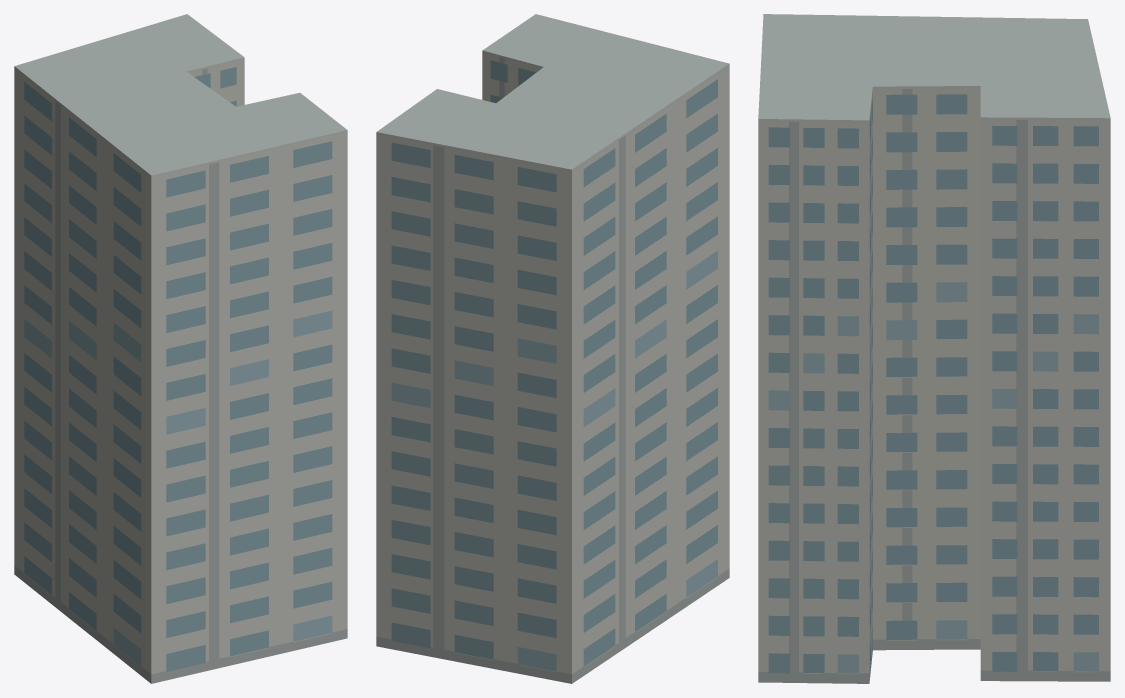
File: residential-03005492-86ac-4448-9a1a-499b64b1af61.glb
3 renders of one model, left to right at view 1: azimuth 30°, elevation 25°; view 2: azimuth 150°, elevation 25°; view 3: azimuth 270°, elevation 25°, orthographic. The views are drawn at different scales.
Parts seen in each view (by area): view 1: residential-03005492-86ac-4448-9a1a-499b64b1af61.tmp; view 2: residential-03005492-86ac-4448-9a1a-499b64b1af61.tmp; view 3: residential-03005492-86ac-4448-9a1a-499b64b1af61.tmp.
Part boxes in pixels (x1=…): residential-03005492-86ac-4448-9a1a-499b64b1af61.tmp: x1=14, y1=14, x2=347, y2=683; residential-03005492-86ac-4448-9a1a-499b64b1af61.tmp: x1=376, y1=14, x2=729, y2=683; residential-03005492-86ac-4448-9a1a-499b64b1af61.tmp: x1=758, y1=14, x2=1110, y2=683.
Size of the model in its own units: 22.68 by 56 by 31.75.
